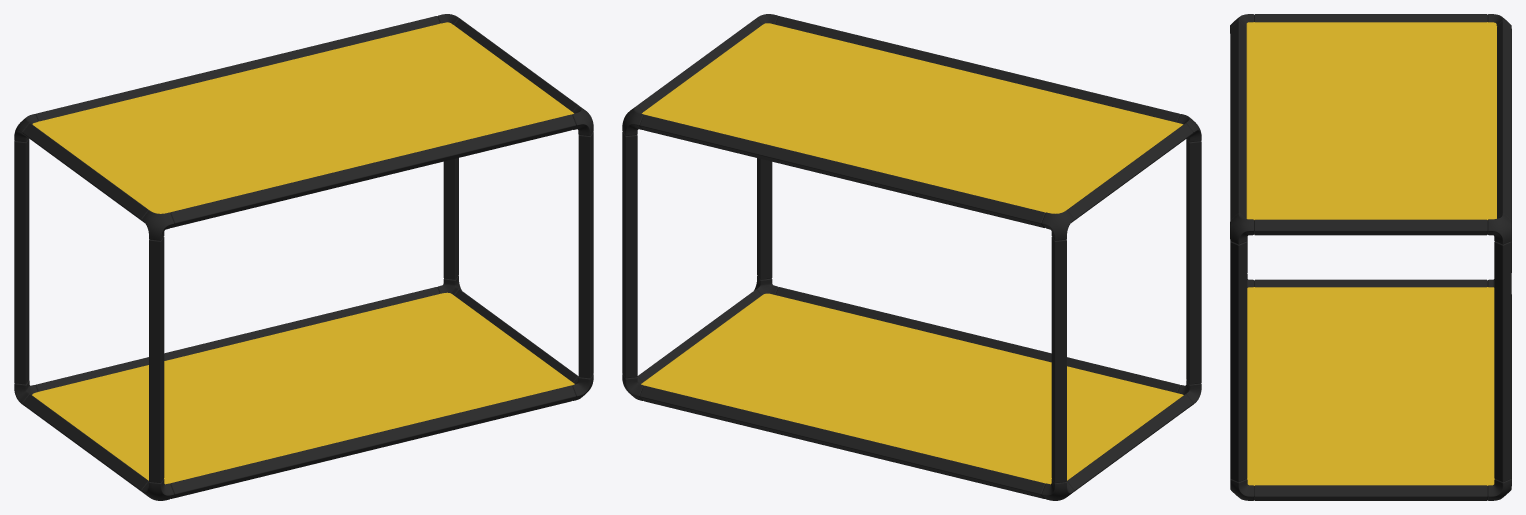
3 renders of one model, left to right at view 1: azimuth 30°, elevation 25°; view 2: azimuth 150°, elevation 25°; view 3: azimuth 270°, elevation 25°, orthographic.
Parts seen in each view (by area): view 1: 729x374x420; view 2: 729x374x420; view 3: 729x374x420.
Boxes of the visible parts, left/top/right/bottom form: 729x374x420: left=14, top=14, right=593, bottom=500; 729x374x420: left=622, top=14, right=1201, bottom=500; 729x374x420: left=1230, top=14, right=1511, bottom=500.
Size of the model in its own units: 0.8067 by 0.4976 by 0.4513.
